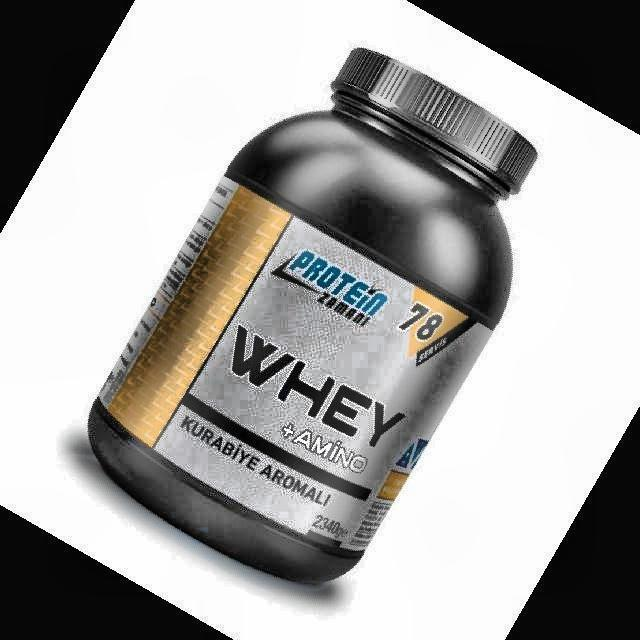plastic: (89, 48, 536, 582)
